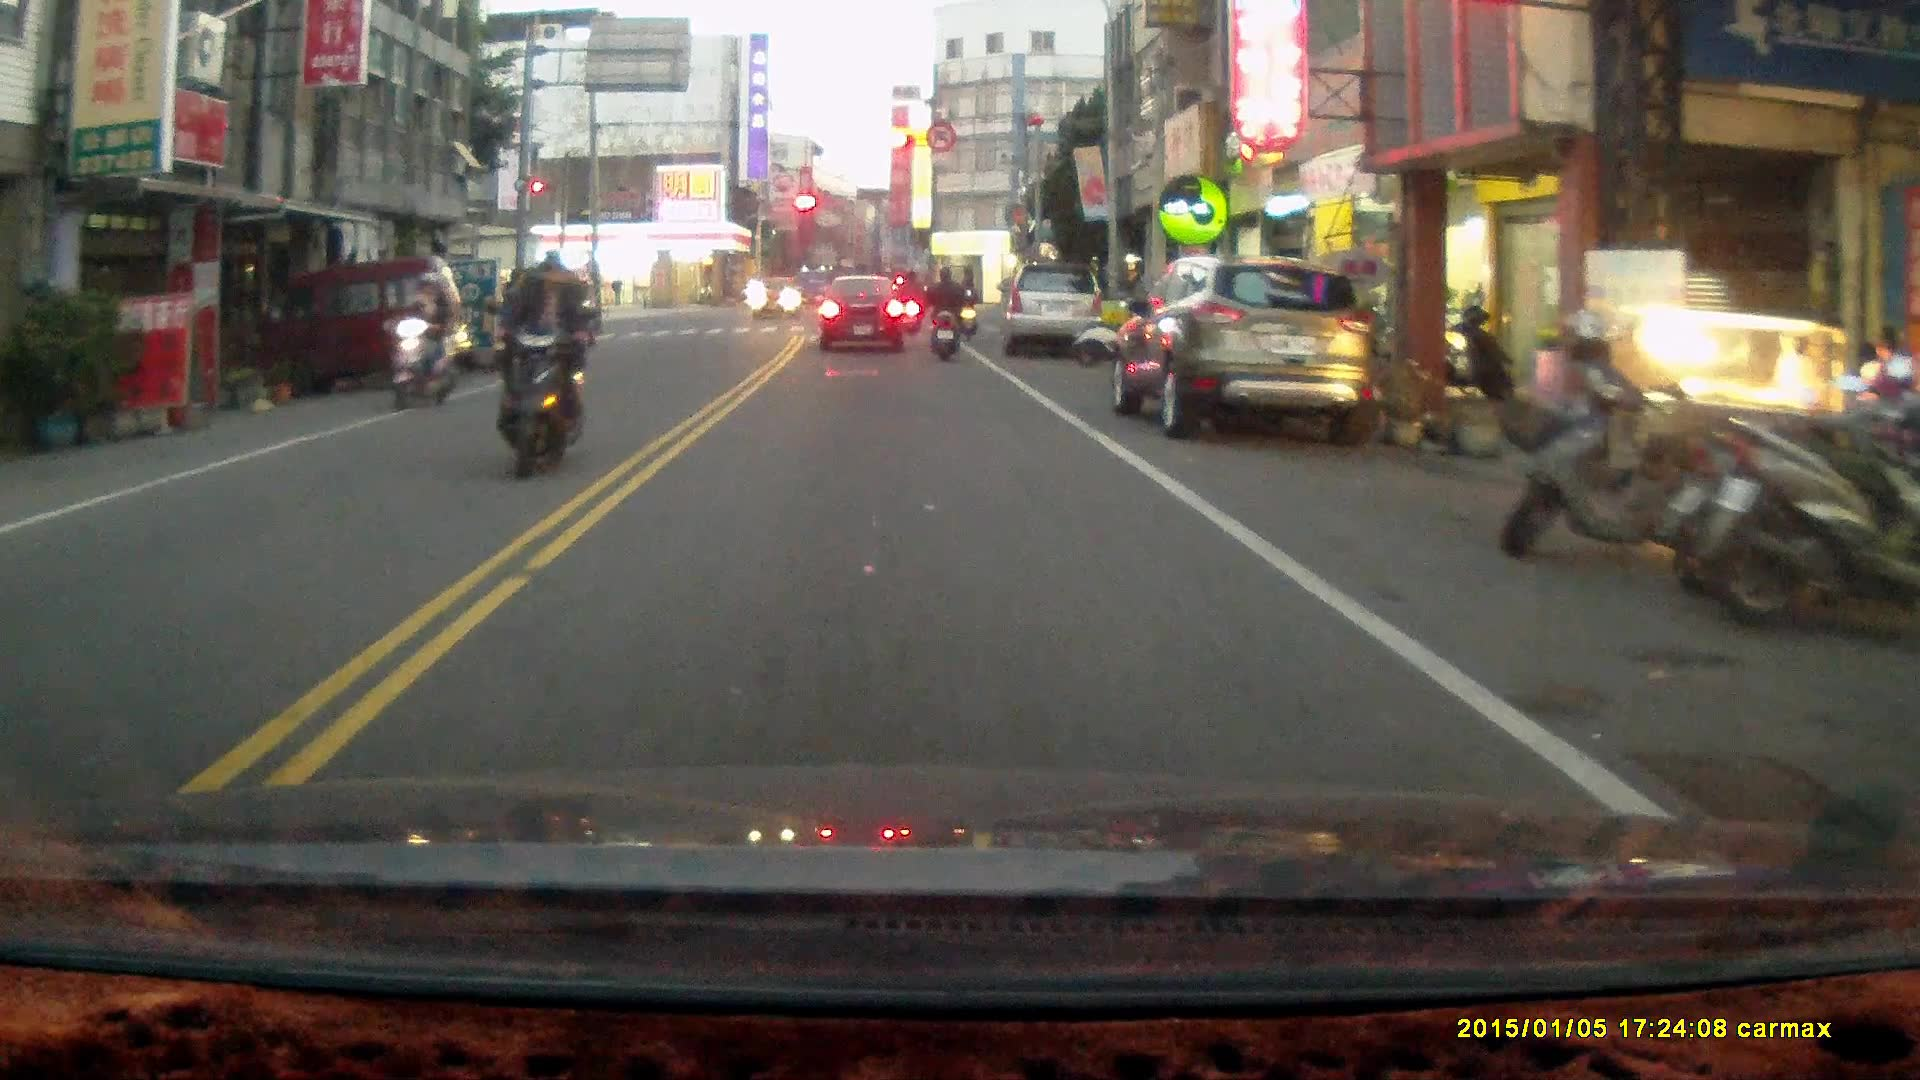pedestrian: (1859, 322, 1910, 480)
rider: (494, 246, 589, 482), (386, 270, 462, 412), (919, 265, 965, 364), (894, 266, 923, 333), (953, 273, 979, 338)
vehicle: (1116, 257, 1376, 449), (252, 256, 473, 400), (1006, 266, 1107, 361), (819, 279, 911, 354), (746, 272, 804, 325)
